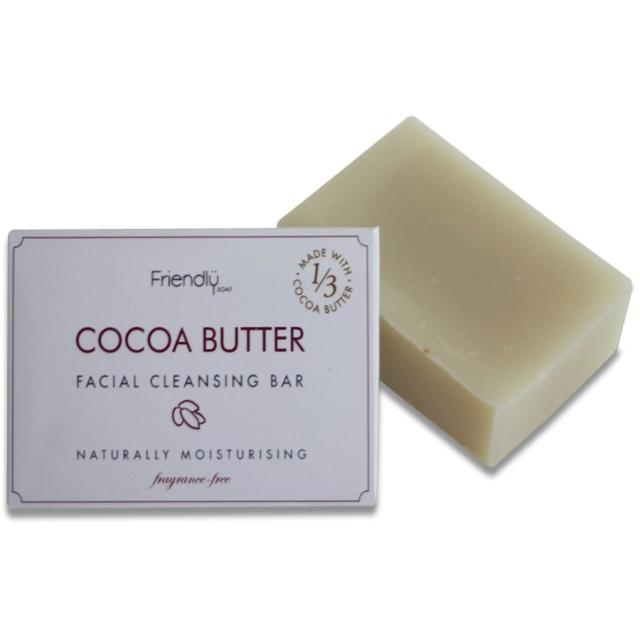soap: (257, 104, 640, 479)
